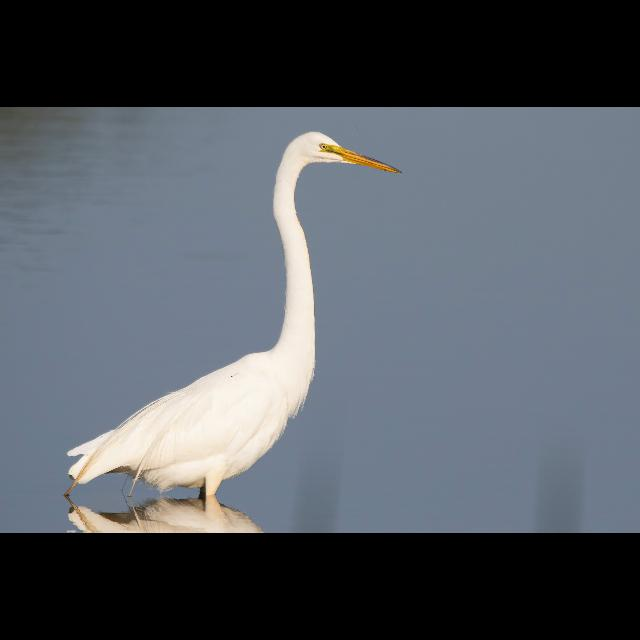egret: (85, 130, 402, 496)
